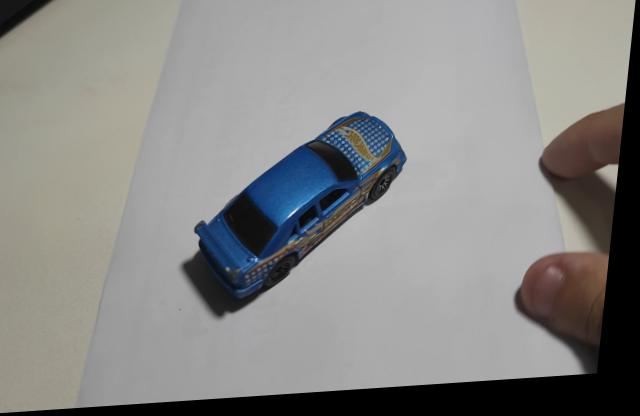04_MERZEDES: (187, 117, 412, 323)
